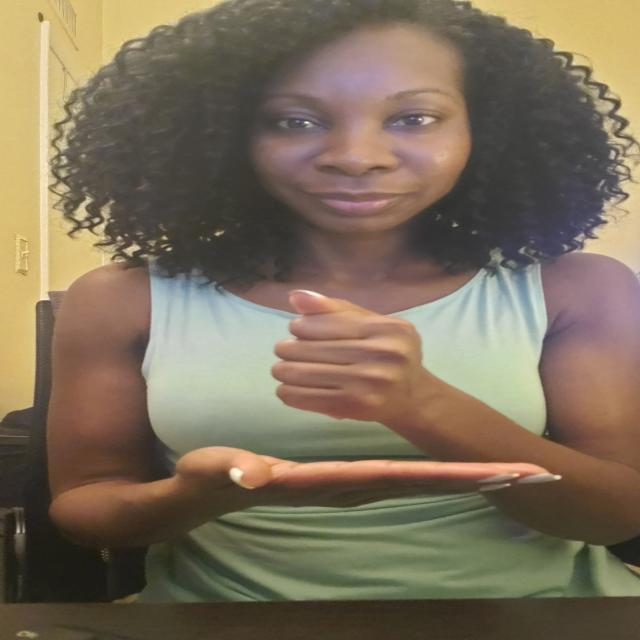Rock: (264, 282, 437, 434)
